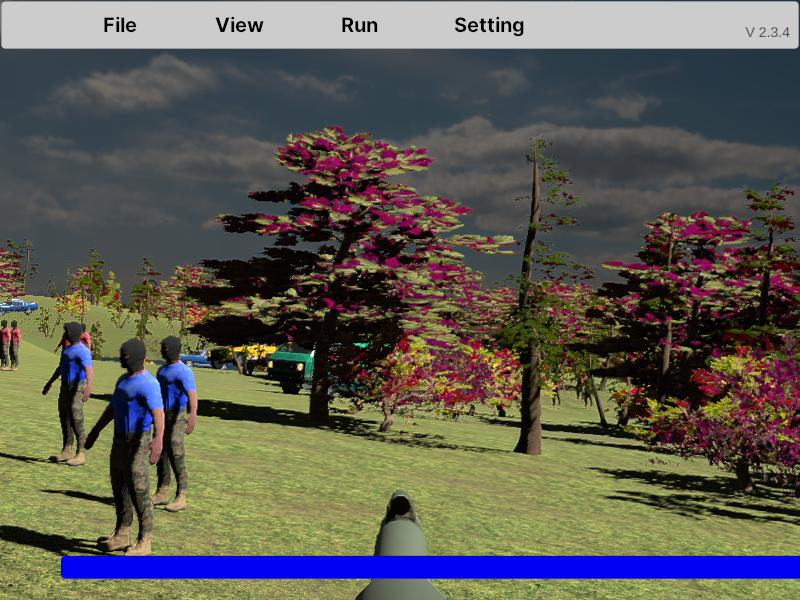Human: (85, 336, 165, 558), (145, 334, 197, 513), (42, 323, 92, 465), (0, 318, 12, 371)
